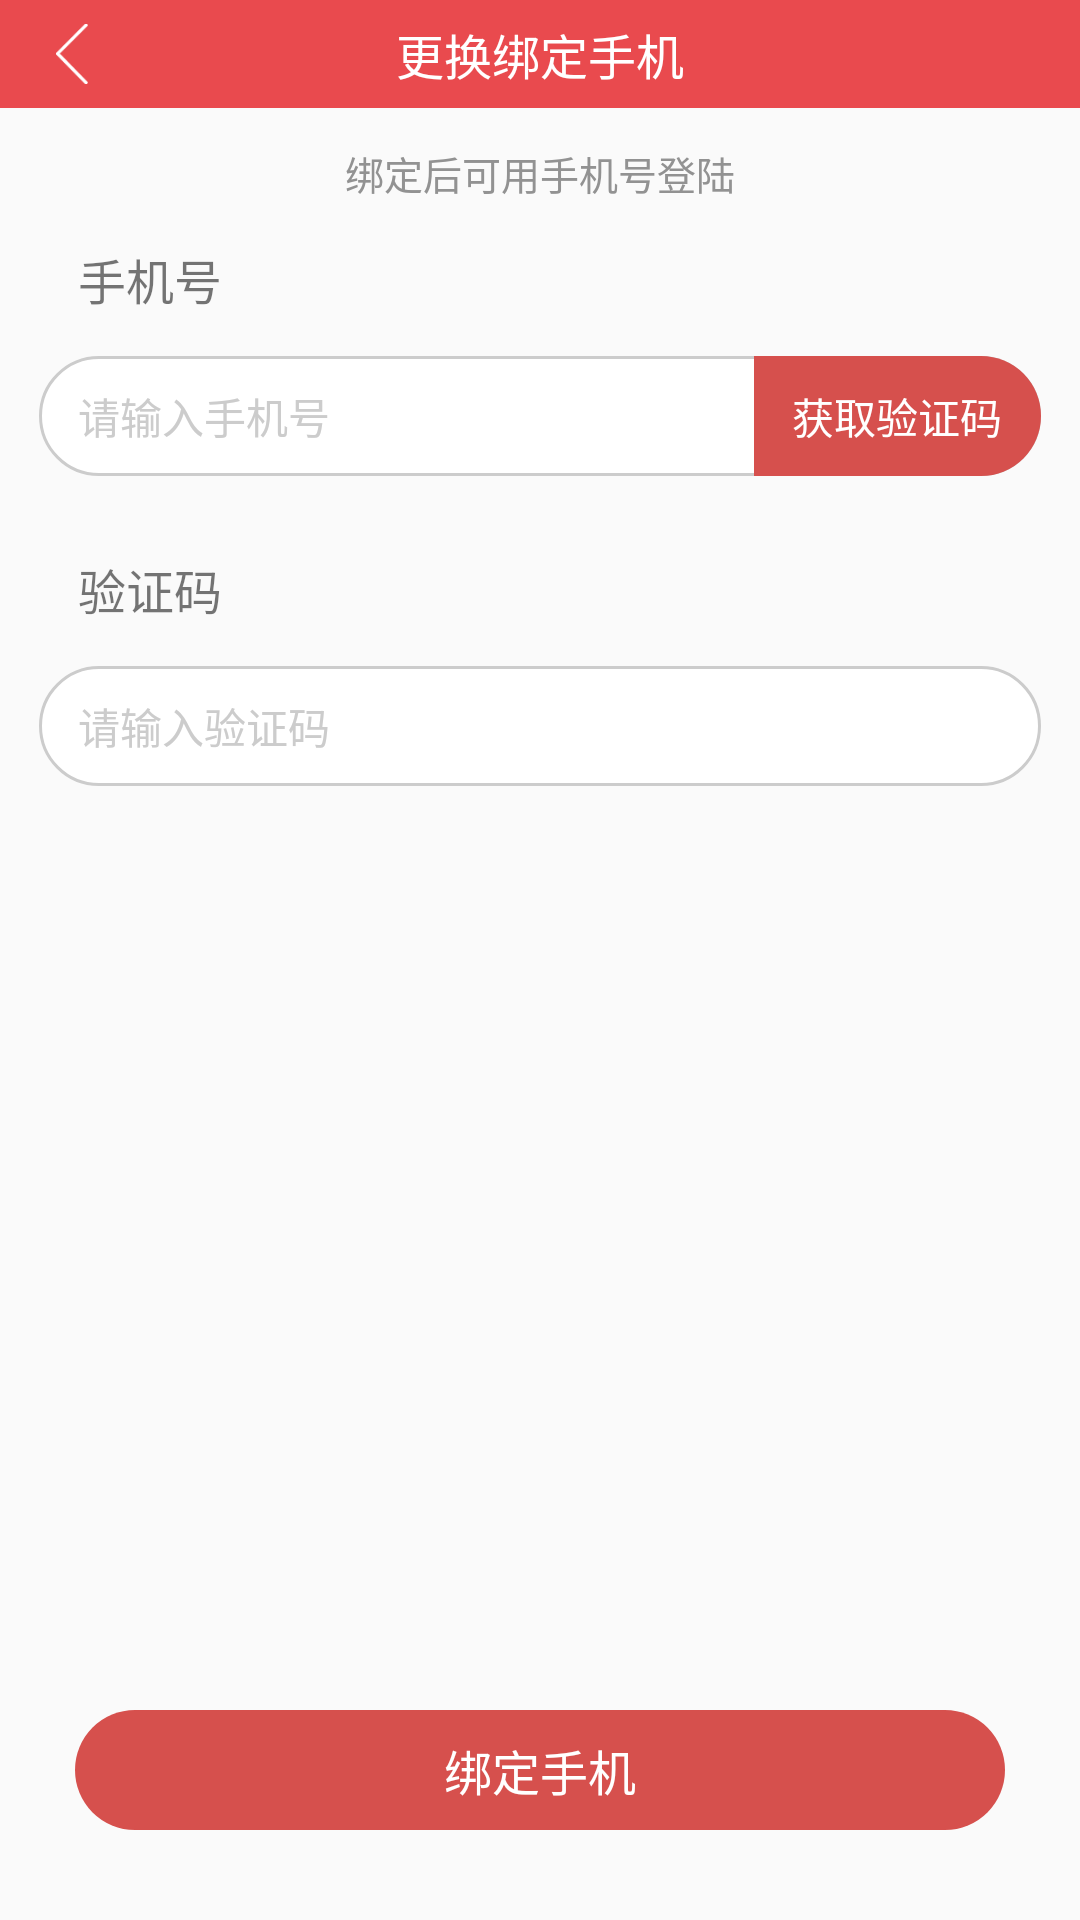

Icons on this 1080w x 1920h Android screen, each with its box as (x1, y1, x2, y2):
detailback: (56, 24, 88, 84)
